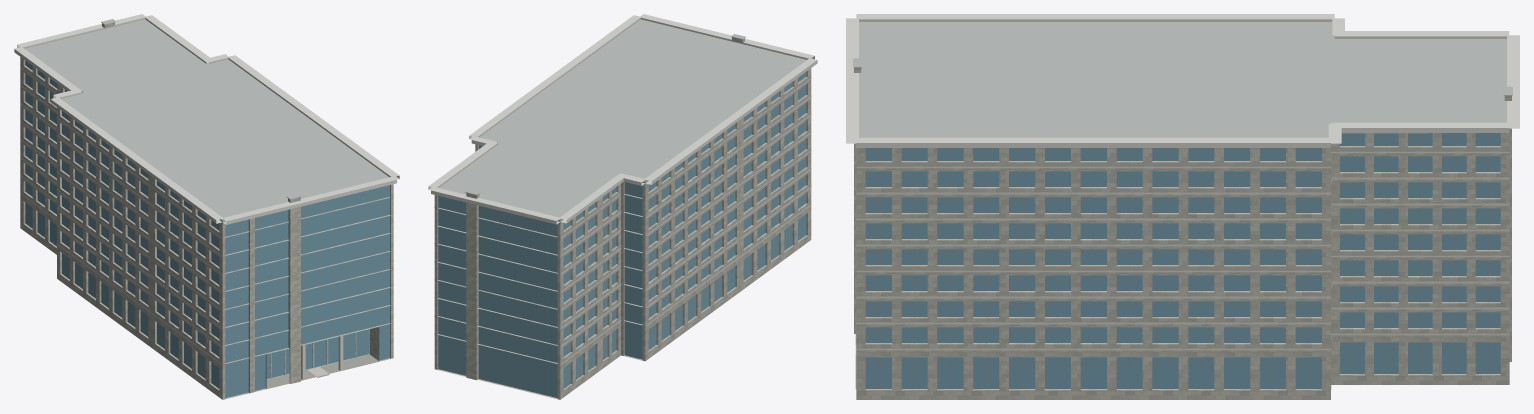
The picture shows the model from 3 angles, left to right: view 1: azimuth 30°, elevation 25°; view 2: azimuth 150°, elevation 25°; view 3: azimuth 270°, elevation 25°; orthographic projection. The views are drawn at different scales.
Parts seen in each view (by area): view 1: b108__glass, unist-batch-b108__base, b108__wall, b108__trim, b108__frame; view 2: b108__glass, b108__wall, unist-batch-b108__base, b108__trim, b108__frame; view 3: b108__wall, b108__glass, unist-batch-b108__base, b108__trim, b108__frame.
Boxes of the visible parts, x1=… form: b108__glass: x1=25, y1=60, x2=389, y2=397; unist-batch-b108__base: x1=25, y1=19, x2=388, y2=397; b108__wall: x1=20, y1=22, x2=393, y2=399; b108__trim: x1=14, y1=14, x2=399, y2=364; b108__frame: x1=25, y1=64, x2=384, y2=396; b108__glass: x1=438, y1=72, x2=806, y2=397; b108__wall: x1=434, y1=37, x2=811, y2=399; unist-batch-b108__base: x1=439, y1=19, x2=809, y2=397; b108__trim: x1=428, y1=14, x2=817, y2=364; b108__frame: x1=445, y1=85, x2=806, y2=396; b108__wall: x1=854, y1=67, x2=1511, y2=399; b108__glass: x1=865, y1=133, x2=1500, y2=388; unist-batch-b108__base: x1=853, y1=22, x2=1512, y2=389; b108__trim: x1=846, y1=14, x2=1519, y2=350; b108__frame: x1=865, y1=133, x2=1500, y2=388.
Bounding box in the file's own units: 38.32 × 37.25 × 84.53.
6 materials, 1 textured.
